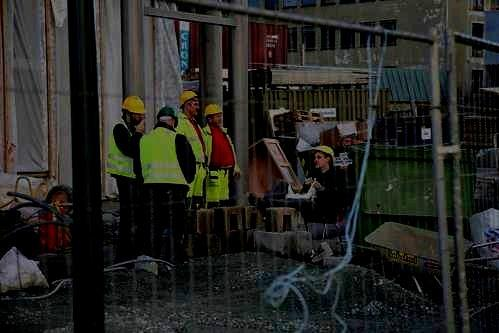helmet: (121, 95, 147, 125), (311, 145, 335, 168), (179, 90, 200, 116), (156, 106, 178, 129), (204, 104, 224, 126)
